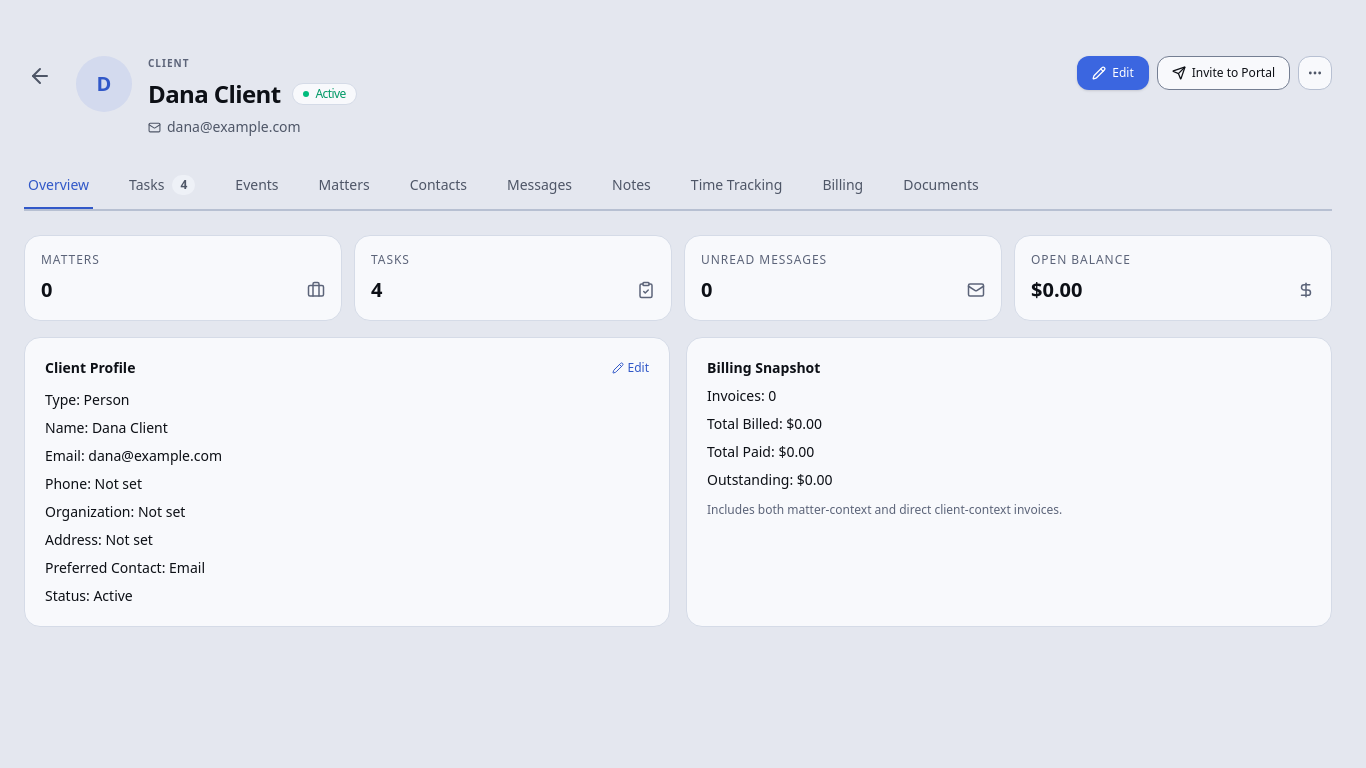
Test case: paging a long task list › draws no pager when every task fits on one page
Expected: the heading "Dana Client Active" is shown, [148,77,357,110]
Click the 1st button "Tasks 4".
click(162, 186)  # box [125,163,199,209]
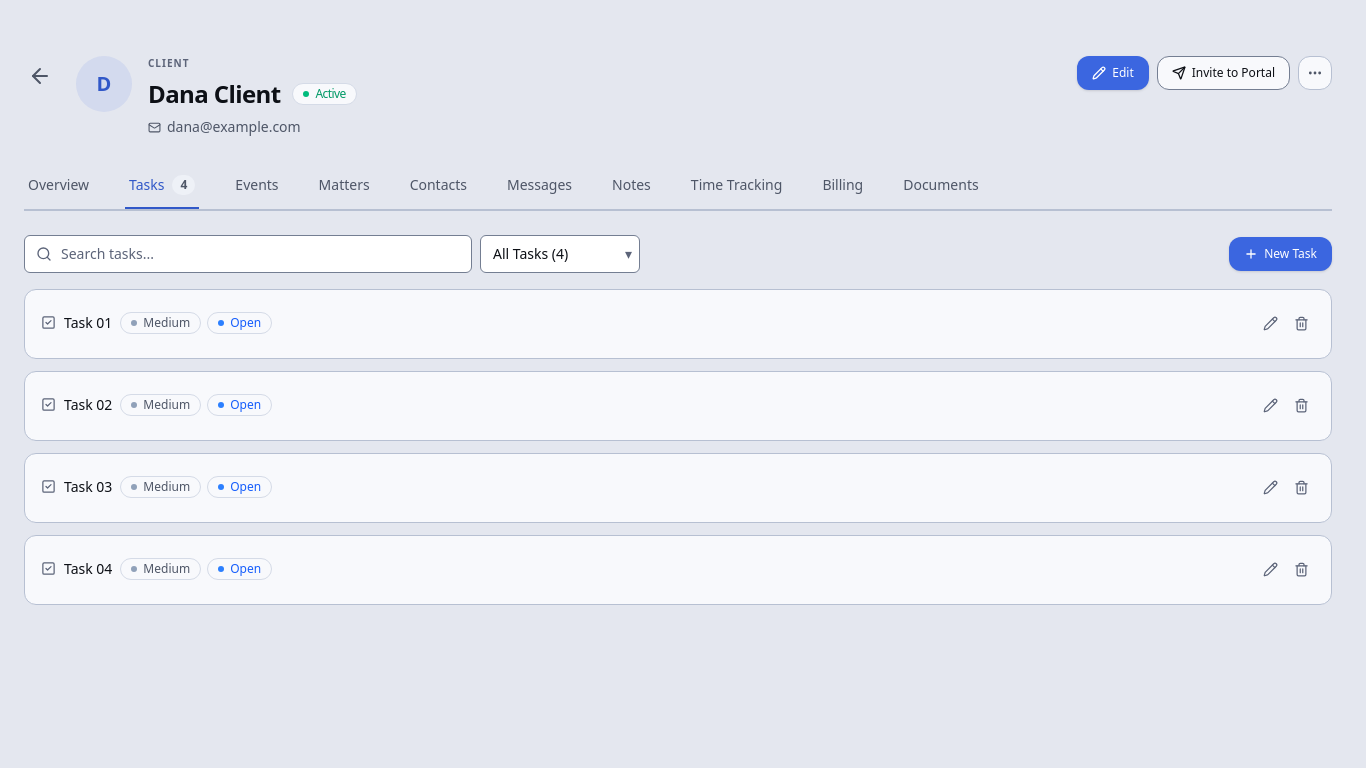
Result: the text "Task 04" is shown at [41,559,112,579]
